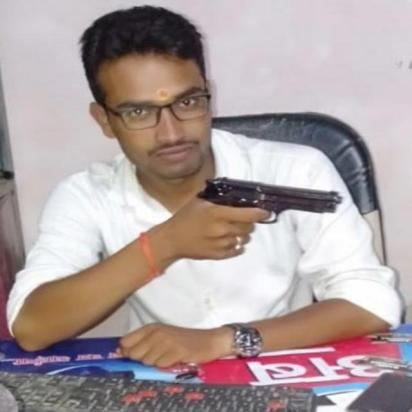Gun: (194, 175, 344, 253)
